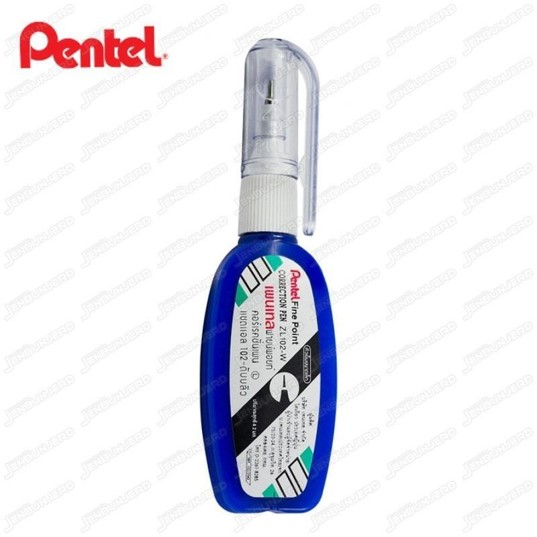Correction_fluid: (195, 30, 343, 519)
